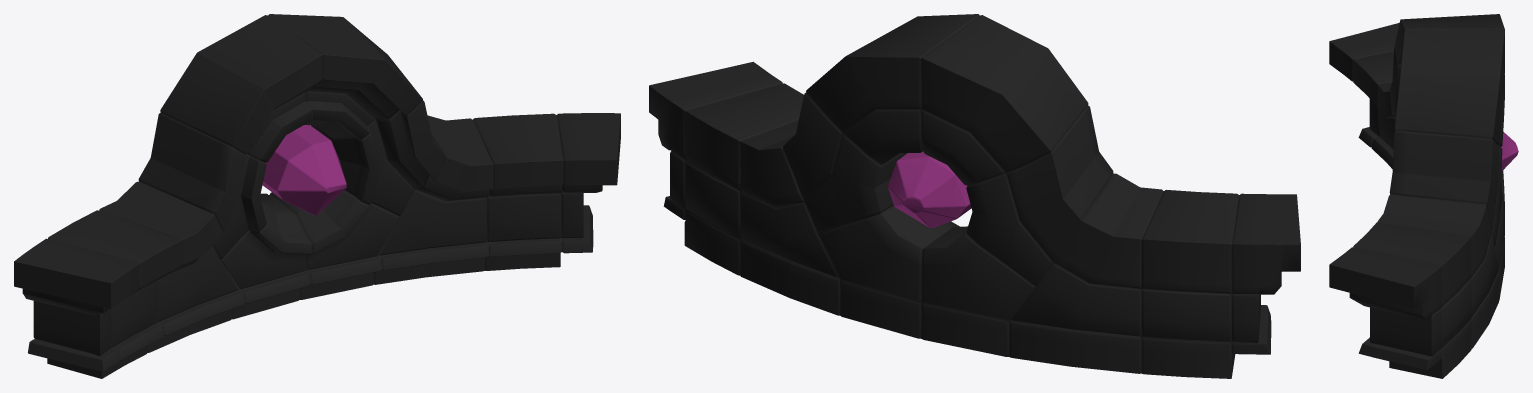
Rendered from TopCrystalArc3.FBX.
3 views of the same model, side by side, from view 1: azimuth 30°, elevation 25°; view 2: azimuth 150°, elevation 25°; view 3: azimuth 270°, elevation 25° (orthographic). The views are drawn at different scales.
Parts seen in each view (by area): view 1: Tube010, Gemstone_014; view 2: Tube010, Gemstone_014; view 3: Tube010, Gemstone_014.
Part boxes in pixels (<box>): Tube010: <box>14,14,620,378</box>; Gemstone_014: <box>262,125,346,215</box>; Tube010: <box>649,14,1300,378</box>; Gemstone_014: <box>888,151,971,228</box>; Tube010: <box>1329,14,1504,378</box>; Gemstone_014: <box>1501,132,1518,171</box>.
Size of the model in its own units: 353 by 146 by 105.
